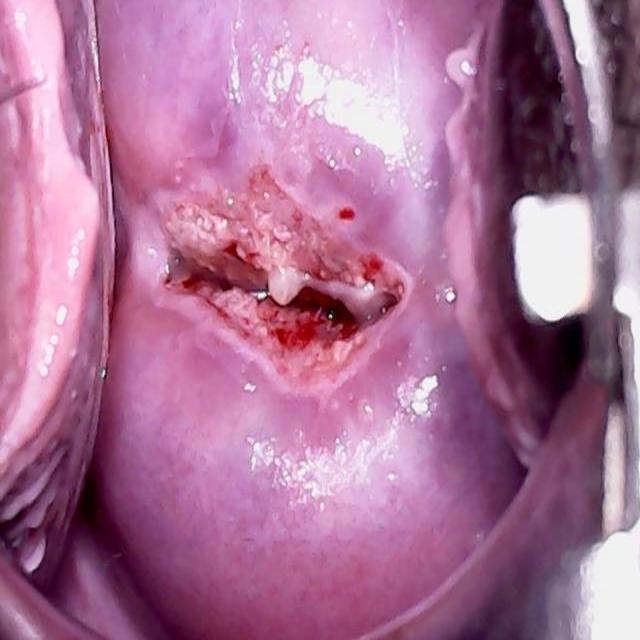cervical_lesion: (137, 43, 451, 508)
